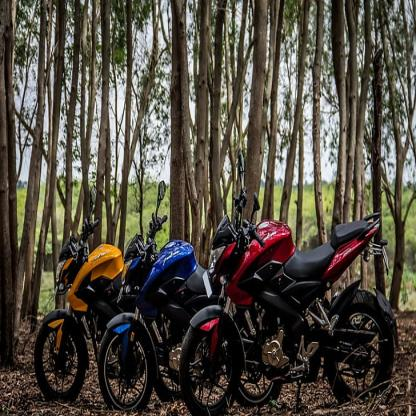bike: (177, 189, 406, 416), (99, 207, 175, 416), (27, 215, 102, 407)
